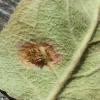Apple rust leaf: (1, 0, 99, 99)
